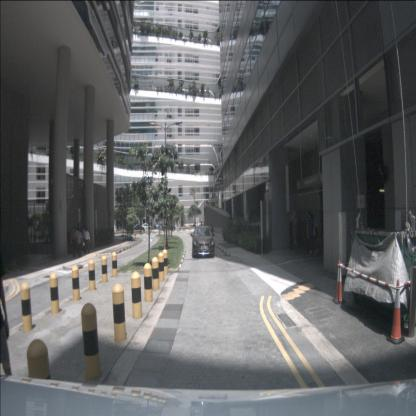human-pedestrian-adult: (0, 220, 13, 410), (307, 211, 316, 259), (309, 214, 319, 255), (76, 229, 85, 257), (292, 214, 298, 249), (71, 226, 77, 258), (84, 227, 90, 254), (82, 227, 86, 253), (200, 221, 203, 237)
movable_object-trafficcone: (386, 280, 405, 344), (332, 260, 346, 304)
vehicle-car: (192, 226, 215, 257), (156, 223, 168, 231), (140, 223, 152, 230), (163, 223, 175, 230), (133, 223, 144, 230)
